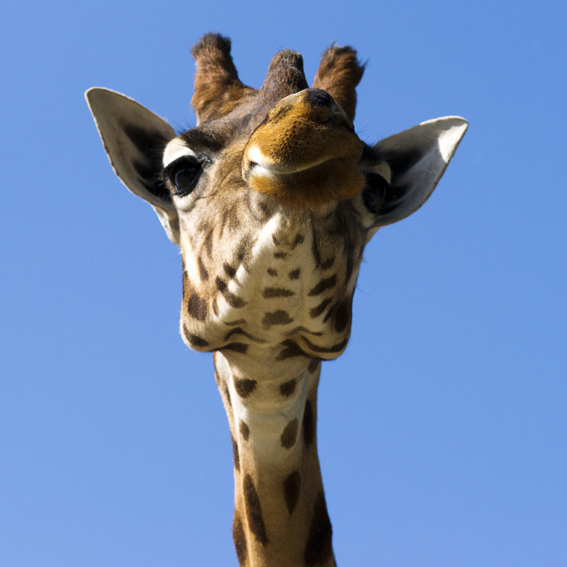giraffe: (103, 22, 458, 549)
